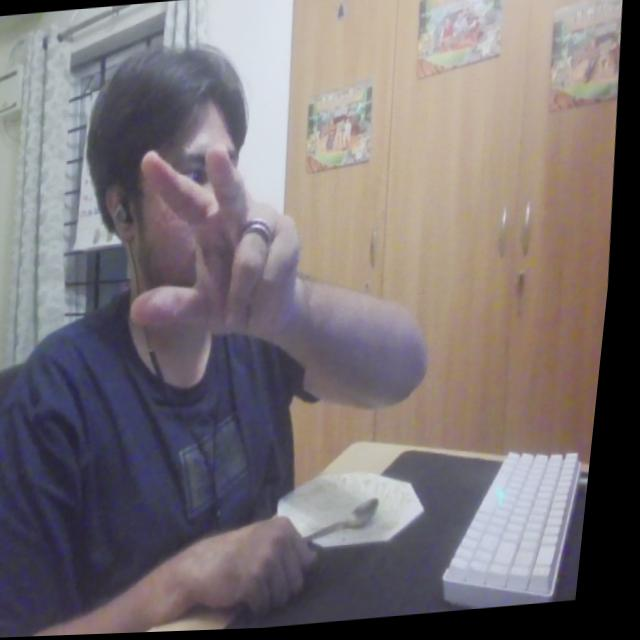no: (121, 131, 329, 364)
